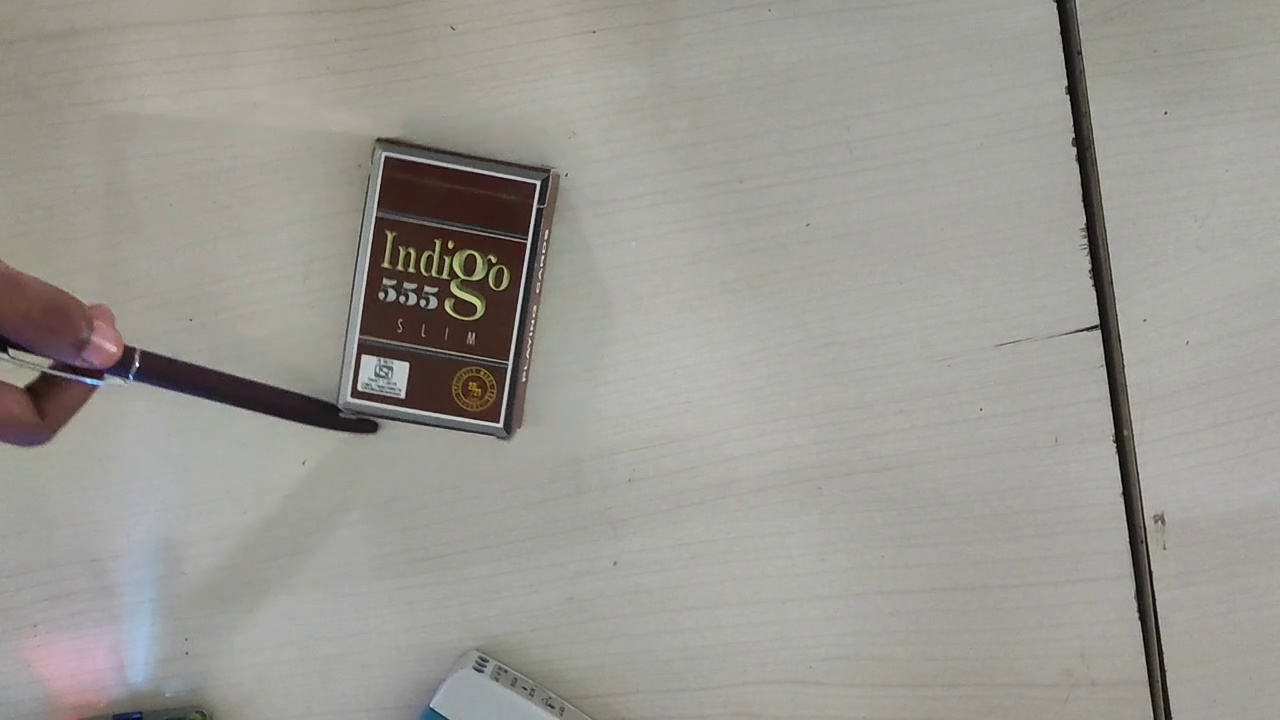BEX: (350, 156, 540, 423)
